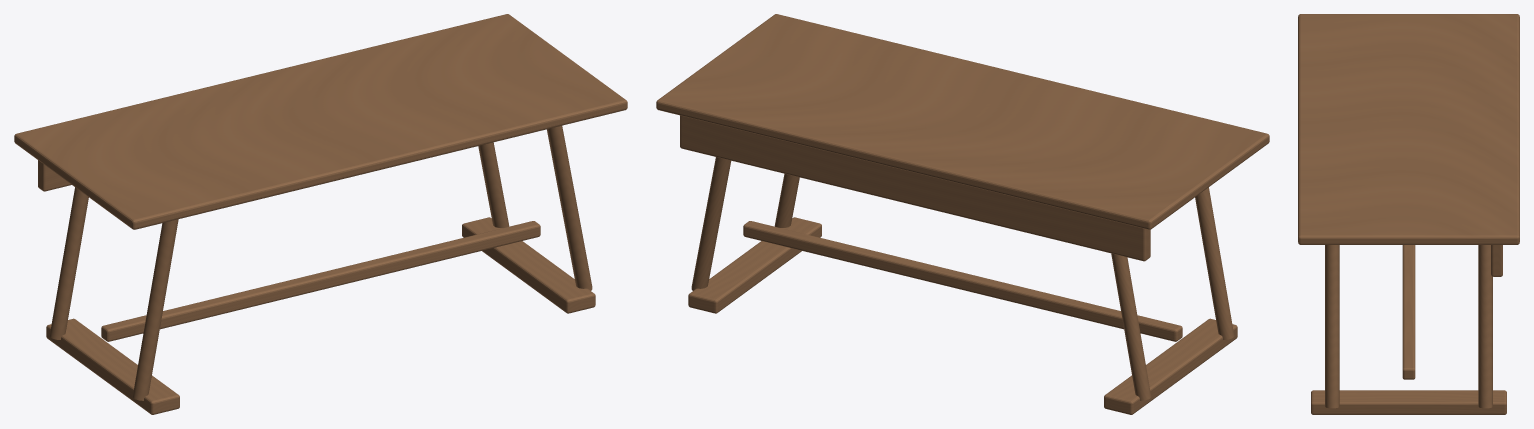
Rendered from desk-1.glb.
The picture shows the model from 3 angles, left to right: view 1: azimuth 30°, elevation 25°; view 2: azimuth 150°, elevation 25°; view 3: azimuth 270°, elevation 25°; orthographic projection. The views are drawn at different scales.
Visible parts, largest first — view 1: Tabletop, Long stretcher, Trestle foot, Trestle foot.001, Trestle leg, Trestle leg.002, Trestle leg.001, Trestle leg.003, Rear apron; view 2: Tabletop, Rear apron, Long stretcher, Trestle foot, Trestle foot.001, Trestle leg, Trestle leg.001, Trestle leg.003, Trestle leg.002; view 3: Tabletop, Trestle foot.001, Trestle leg.002, Trestle leg.003, Long stretcher, Rear apron.
Boxes of the visible parts, <box> form: Tabletop: <box>14,14,627,229</box>; Long stretcher: <box>101,221,540,341</box>; Trestle foot: <box>46,318,179,414</box>; Trestle foot.001: <box>462,217,595,313</box>; Trestle leg: <box>132,219,178,400</box>; Trestle leg.002: <box>547,125,592,290</box>; Trestle leg.001: <box>49,187,88,339</box>; Trestle leg.003: <box>478,142,509,227</box>; Rear apron: <box>38,160,71,191</box>; Tabletop: <box>656,14,1269,229</box>; Rear apron: <box>680,115,1150,261</box>; Long stretcher: <box>743,221,1182,341</box>; Trestle foot: <box>1104,318,1237,414</box>; Trestle foot.001: <box>688,217,821,313</box>; Trestle leg: <box>1195,187,1234,339</box>; Trestle leg.001: <box>1111,253,1151,400</box>; Trestle leg.003: <box>691,157,731,290</box>; Trestle leg.002: <box>774,173,799,227</box>; Tabletop: <box>1298,14,1519,244</box>; Trestle foot.001: <box>1311,390,1506,414</box>; Trestle leg.002: <box>1325,245,1339,408</box>; Trestle leg.003: <box>1478,245,1492,408</box>; Long stretcher: <box>1402,245,1415,379</box>; Rear apron: <box>1491,245,1502,276</box>.
Bounding box in the file's own units: 1.86 × 0.74 × 0.78.
Materials: 1 (1 with a texture image).
